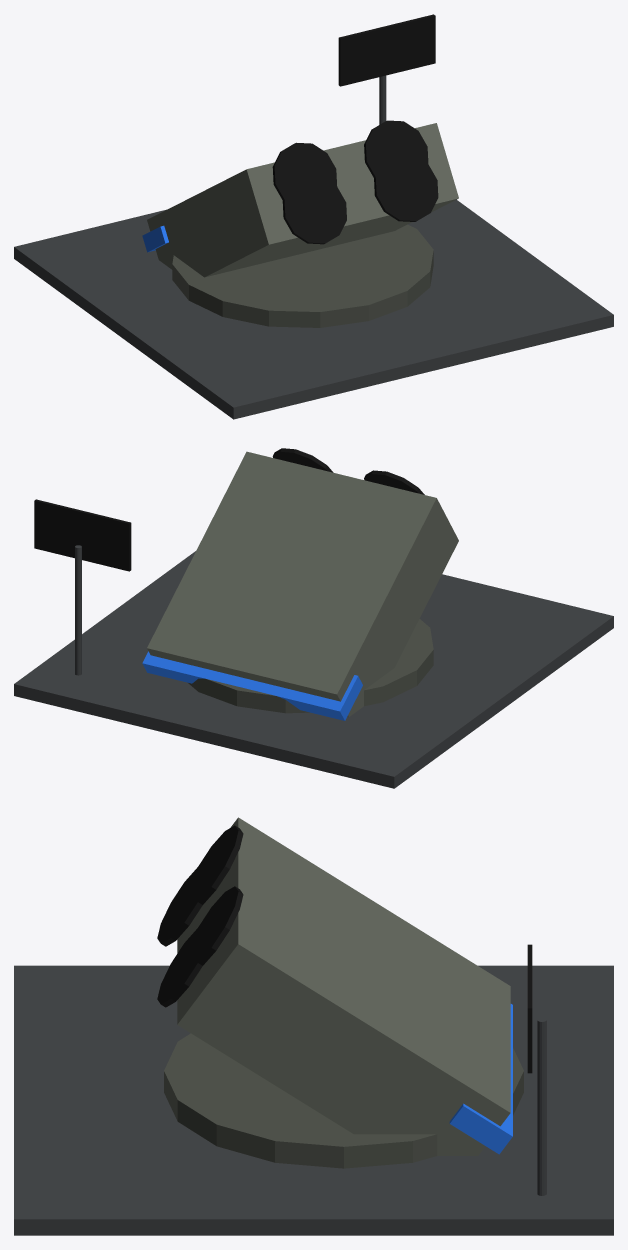
The model's file is eu_cruise_battery.glb.
The picture shows the model from 3 angles, top to bottom: view 1: azimuth 30°, elevation 25°; view 2: azimuth 150°, elevation 25°; view 3: azimuth 270°, elevation 25°; orthographic projection. The views are drawn at different scales.
Visible parts, largest first — view 1: base, turret, barrel, radar_panel, tube_1, tube_0, tube_2, tube_3; view 2: barrel, base, radar_panel, turret, team_band, radar_mast, tube_3, tube_2; view 3: base, barrel, turret, tube_2, tube_3, team_band, radar_mast, tube_1, tube_0, radar_panel.
Boxes of the visible parts, bbox=[...] form: base: bbox=[14, 199, 613, 419]; turret: bbox=[172, 224, 433, 327]; barrel: bbox=[147, 123, 458, 277]; radar_panel: bbox=[338, 14, 435, 86]; tube_1: bbox=[374, 154, 438, 221]; tube_0: bbox=[282, 176, 346, 244]; tube_2: bbox=[272, 142, 337, 209]; tube_3: bbox=[364, 120, 428, 186]; barrel: bbox=[147, 451, 458, 717]; base: bbox=[14, 551, 613, 788]; radar_panel: bbox=[34, 499, 131, 571]; turret: bbox=[188, 619, 433, 713]; team_band: bbox=[142, 651, 362, 720]; radar_mast: bbox=[75, 545, 81, 675]; tube_3: bbox=[272, 448, 333, 472]; tube_2: bbox=[364, 470, 424, 494]; base: bbox=[14, 965, 613, 1235]; barrel: bbox=[177, 817, 510, 1155]; turret: bbox=[164, 1033, 523, 1168]; tube_2: bbox=[184, 825, 243, 907]; tube_3: bbox=[184, 886, 243, 968]; team_band: bbox=[449, 1004, 512, 1154]; radar_mast: bbox=[537, 1018, 546, 1195]; tube_1: bbox=[157, 922, 209, 1007]; tube_0: bbox=[157, 861, 210, 946]; radar_panel: bbox=[527, 944, 532, 1073].
Bounding box in the file's own units: 10.25 × 4.95 × 10.
